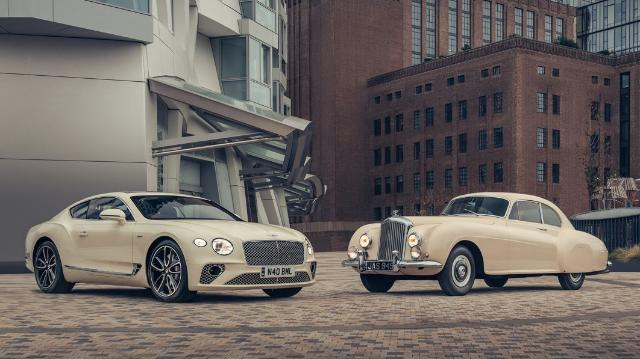bentley: (25, 192, 318, 304), (342, 191, 612, 296)
